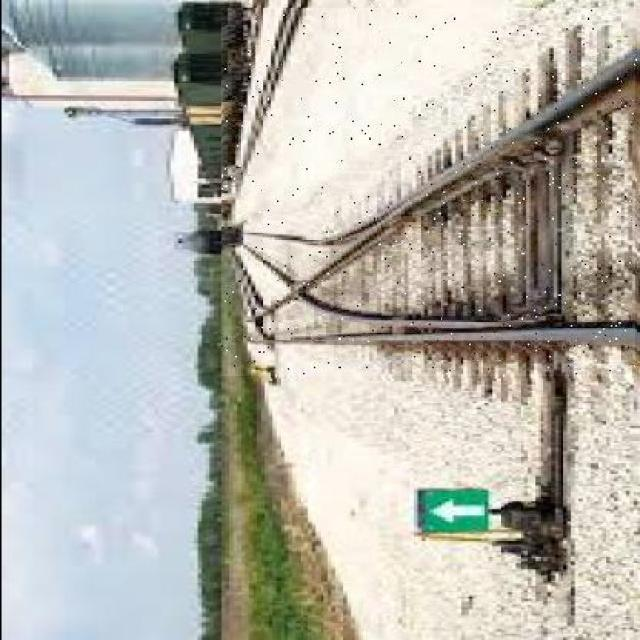rail: (222, 9, 636, 377)
